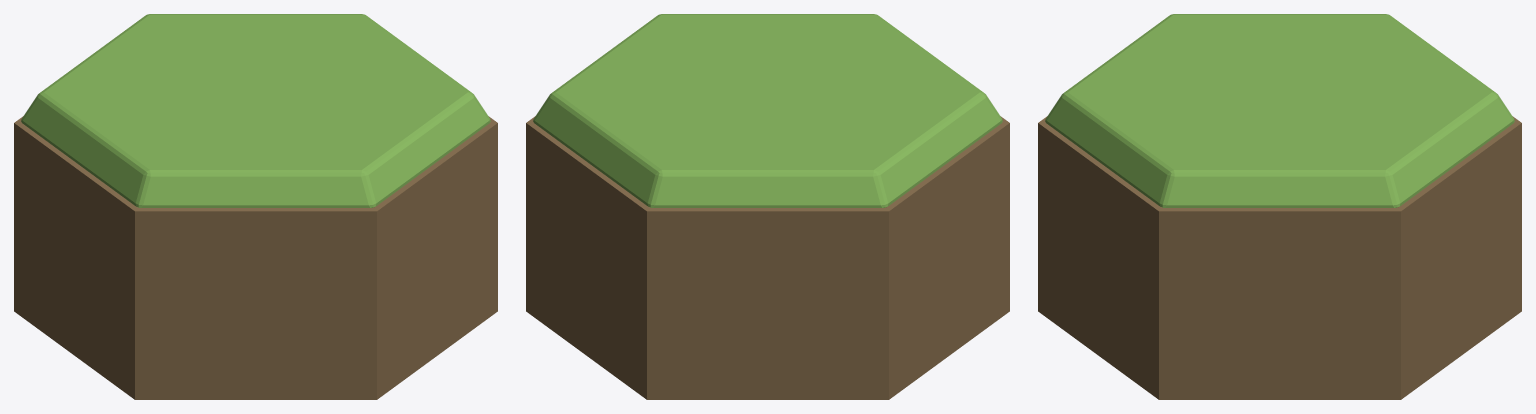
The model's file is tile.glb.
3 views of the same model, side by side, from view 1: azimuth 30°, elevation 25°; view 2: azimuth 150°, elevation 25°; view 3: azimuth 270°, elevation 25° (orthographic).
Visible parts, largest first — view 1: tile; view 2: tile; view 3: tile.
Part boxes in pixels (x1,y1,x2,y2): tile: (14, 14, 497, 399); tile: (526, 14, 1009, 399); tile: (1038, 14, 1521, 399).
Size of the model in its own units: 1.73 by 1 by 2.
